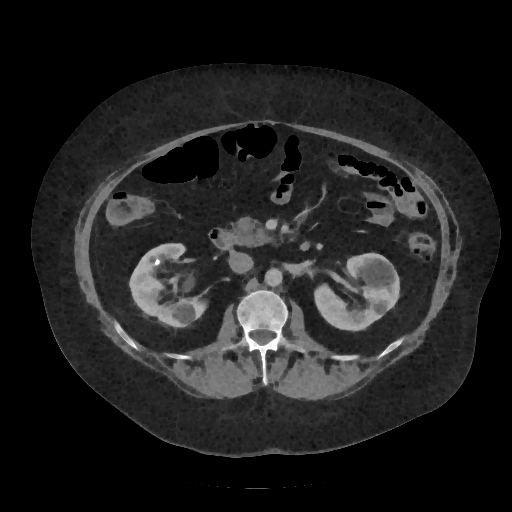Lesion: (359, 253, 399, 289)
